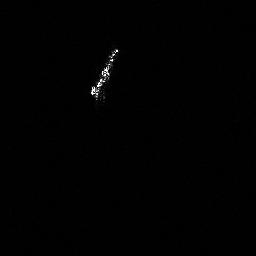ship: (86, 45, 124, 105)
